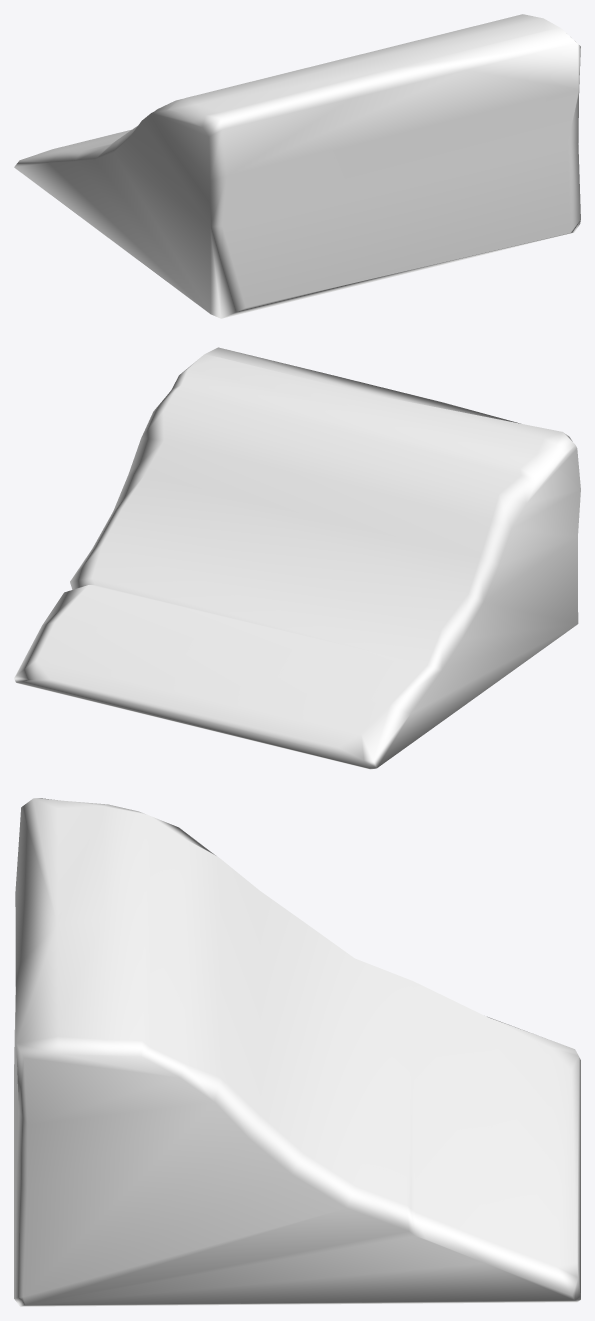
Rendered from Prop_IceSlideConcaveNe.glb.
3 views of the same model, one above another, from view 1: azimuth 30°, elevation 25°; view 2: azimuth 150°, elevation 25°; view 3: azimuth 270°, elevation 25° (orthographic). The views are drawn at different scales.
Visible parts, largest first — view 1: Prop_IceSlideConcaveNe; view 2: Prop_IceSlideConcaveNe; view 3: Prop_IceSlideConcaveNe.
Part boxes in pixels (x1,y1,x2,y2): Prop_IceSlideConcaveNe: (14,14,580,318); Prop_IceSlideConcaveNe: (14,347,580,769); Prop_IceSlideConcaveNe: (14,798,580,1306).
Size of the model in its own units: 1.11 by 0.5566 by 1.05.
1 material, 1 textured.
